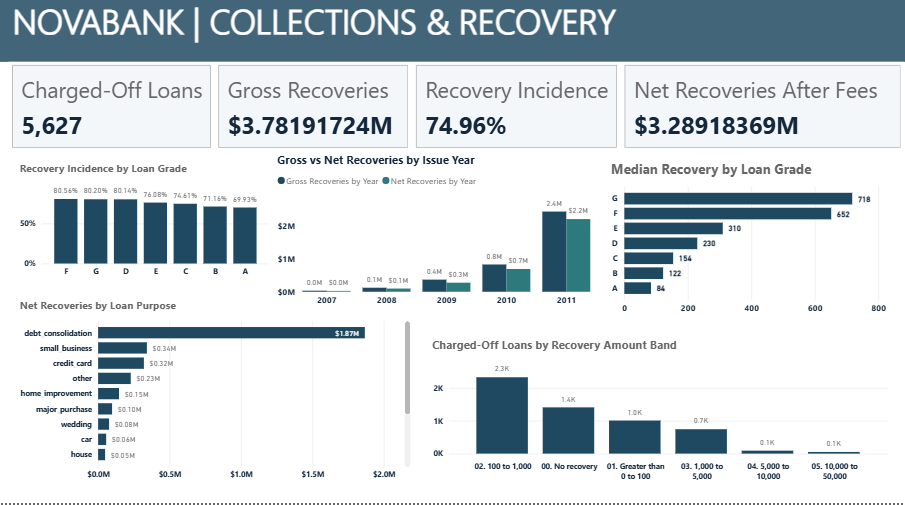

This screenshot's page, from the dashboard's own definition file:
{"tool":"powerbi","page":{"name":"Collections & Recovery","canvas":[1280,720],"ordinal":2},"visuals":[{"type":"textbox","box":[0,0,1280,95.7],"z":0},{"type":"cardVisual","fields":{"Data":["credit_risk_cohort.Charged-Off Loans"]},"box":[12.9,95.7,291.4,127.1],"z":1000},{"type":"cardVisual","fields":{"Data":["collections_overview.Recovery Incidence"]},"box":[582.9,95.7,294.3,127.1],"z":2000},{"type":"cardVisual","fields":{"Data":["collections_overview.Gross Recoveries"]},"box":[304.3,95.7,278.6,127.1],"z":3000},{"type":"cardVisual","fields":{"Data":["collections_overview.Net Recoveries After Fees"]},"box":[878.6,95.7,400,127.1],"z":4000},{"type":"clusteredColumnChart","title":"Recovery Incidence by Loan Grade","fields":{"Category":["collections_by_grade.grade"],"Y":["collections_by_grade.Recovery Incidence by Grade"]},"box":[22.9,234.3,362.9,174.3],"z":5000},{"type":"clusteredColumnChart","title":"Gross vs Net Recoveries by Issue Year","fields":{"Category":["collections_by_issue_year.issue_year"],"Y":["collections_by_issue_year.Gross Recoveries by Year","collections_by_issue_year.Net Recoveries by Year"]},"box":[387.1,222.9,452.9,228.6],"z":6000},{"type":"clusteredBarChart","title":"Net Recoveries by Loan Purpose","fields":{"Category":["collections_by_purpose.purpose"],"Y":["collections_by_purpose.Net Recoveries by Purpose"]},"box":[22.8,430.3,562.6,266.8],"z":7000},{"type":"clusteredColumnChart","title":"Charged-Off Loans by Recovery Amount Band","fields":{"Category":["collections_recovery_amount_bands.recovery_amount_band"],"Y":["collections_recovery_amount_bands.Loans by Recovery Band"]},"box":[605.7,484.3,654.3,212.9],"z":8000},{"type":"clusteredBarChart","title":"Median Recovery by Loan Grade","fields":{"Y":["Avg(collections_by_grade.median_recovery_all_charged_off)"],"Category":["collections_by_grade.grade"]},"box":[858.6,234.3,401.4,227.1],"z":9000}]}

Visuals, with their boxes in screenshot pixels (x1, y1, x2, y2), scaled from the page's 1280x720 canvas onto the 905x505 screenshot:
textbox: crop(0, 0, 904, 67)
cardVisual - credit_risk_cohort.Charged-Off Loans: crop(9, 67, 215, 156)
cardVisual - collections_overview.Recovery Incidence: crop(412, 67, 620, 156)
cardVisual - collections_overview.Gross Recoveries: crop(215, 67, 412, 156)
cardVisual - collections_overview.Net Recoveries After Fees: crop(621, 67, 904, 156)
"Recovery Incidence by Loan Grade" clusteredColumnChart: crop(16, 164, 273, 287)
"Gross vs Net Recoveries by Issue Year" clusteredColumnChart: crop(274, 156, 594, 317)
"Net Recoveries by Loan Purpose" clusteredBarChart: crop(16, 302, 414, 489)
"Charged-Off Loans by Recovery Amount Band" clusteredColumnChart: crop(428, 340, 891, 489)
"Median Recovery by Loan Grade" clusteredBarChart: crop(607, 164, 891, 324)
